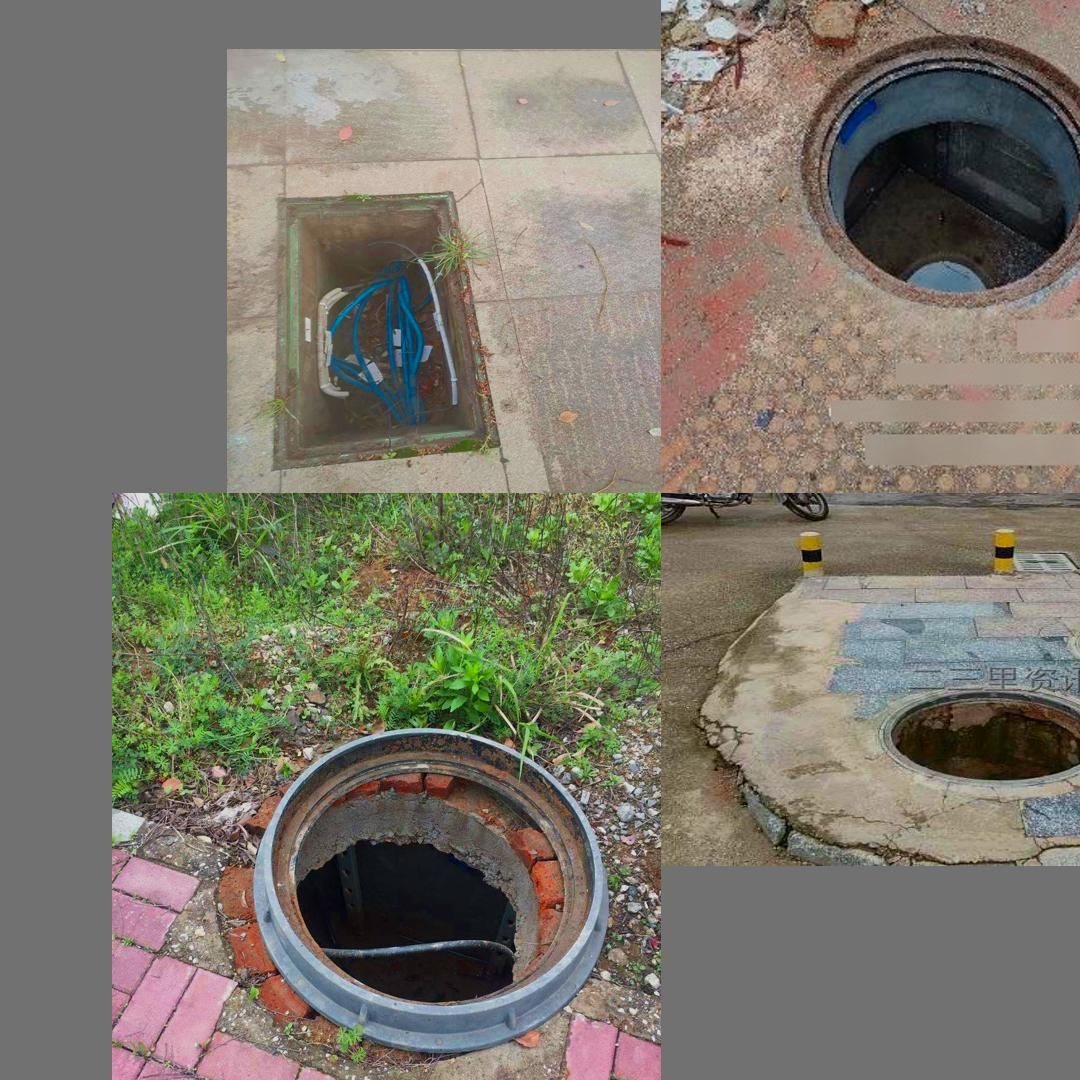lose: (253, 728, 611, 1056), (803, 34, 1080, 307), (270, 191, 494, 456), (870, 679, 1080, 793)
